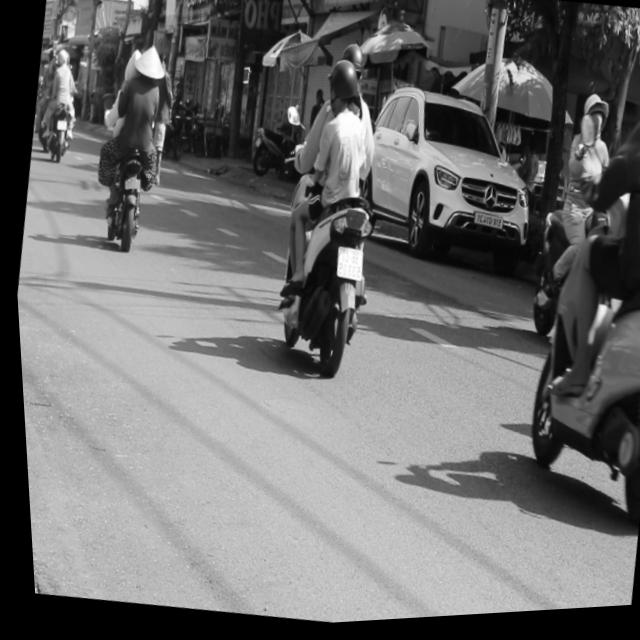helmet: (321, 59, 364, 121), (336, 44, 366, 80)
licenseplate: (485, 18, 640, 539), (250, 38, 411, 387), (79, 28, 182, 258)
motorcyclist: (574, 98, 611, 153), (130, 41, 168, 86)
nohelmet: (331, 249, 363, 284), (123, 176, 139, 193)
